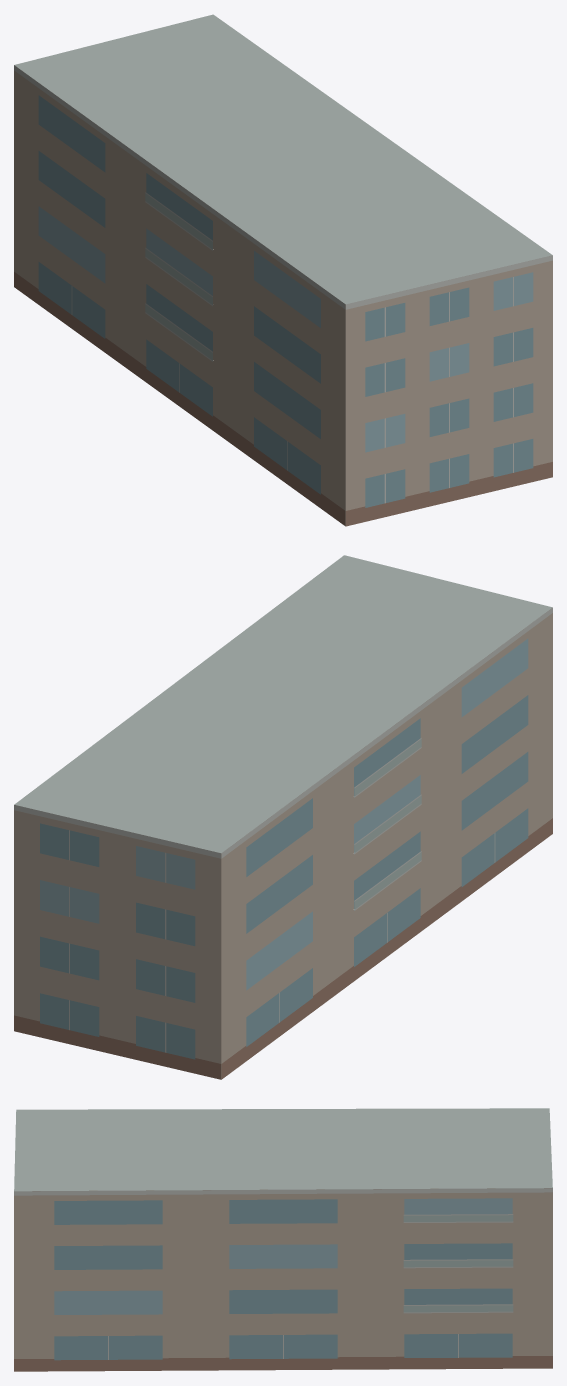
The model's file is survey-upis-32505449.glb.
3 renders of one model, top to bottom at view 1: azimuth 30°, elevation 25°; view 2: azimuth 150°, elevation 25°; view 3: azimuth 270°, elevation 25°, orthographic. The views are drawn at different scales.
Parts seen in each view (by area): view 1: survey-upis-32505449.tmp; view 2: survey-upis-32505449.tmp; view 3: survey-upis-32505449.tmp.
Boxes of the visible parts, x1=… form: survey-upis-32505449.tmp: x1=14, y1=14, x2=552, y2=526; survey-upis-32505449.tmp: x1=14, y1=555, x2=552, y2=1079; survey-upis-32505449.tmp: x1=14, y1=1108, x2=552, y2=1371.
Size of the model in its own units: 9.97 by 10.1 by 27.35.
